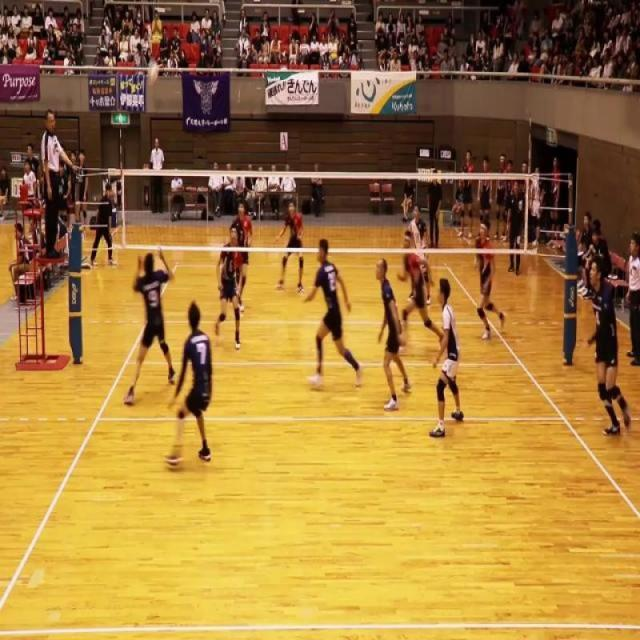volleyball: (147, 57, 159, 86)
